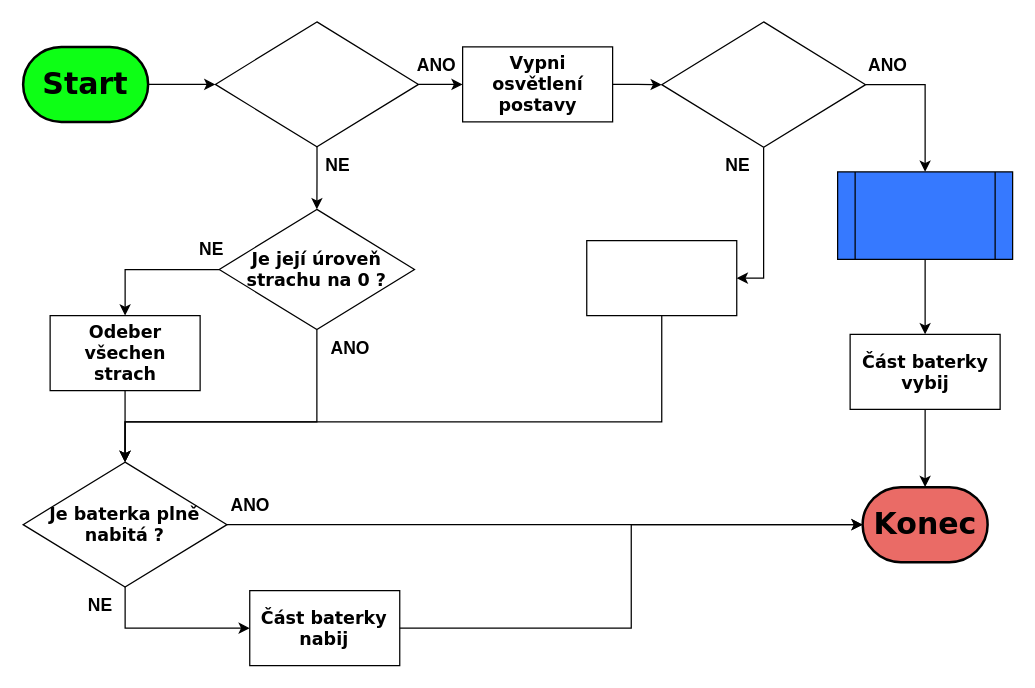
Image size: 1035x688. Some labels were removed from this diagram. The box of each missing label's shape, as (x1, y1, x2, y2) in pixels:
Je postava v jeskyni ?: (214, 21, 418, 147)
Má zapnutou baterku ?: (660, 21, 866, 147)
Spusť algoritmus temné ruky a pokračuj: (836, 171, 1013, 259)
Zvyš úroveň strachu: (586, 239, 737, 316)
